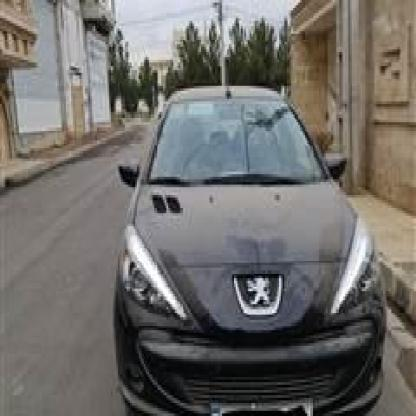Car: (111, 83, 386, 416)
